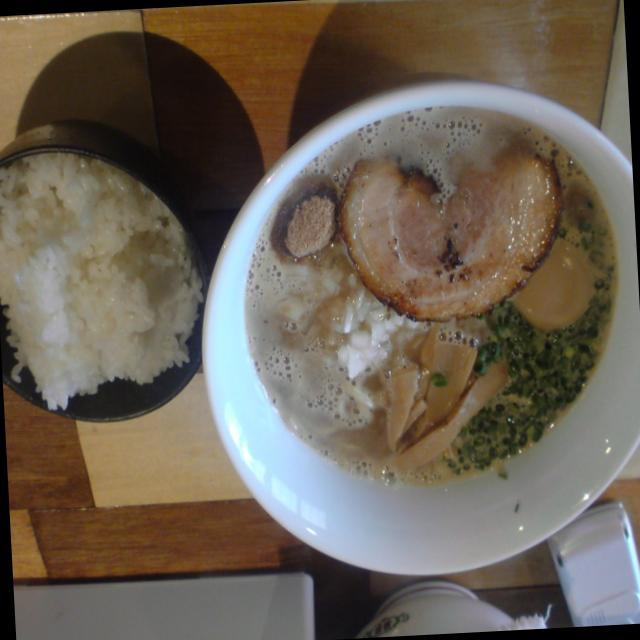Rice: (0, 144, 220, 415)
